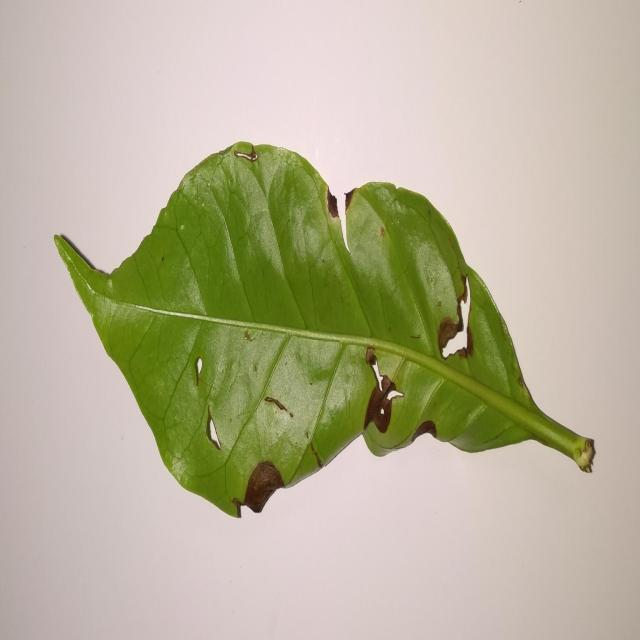Enfermedad-Antracnosis: (52, 142, 596, 521)
